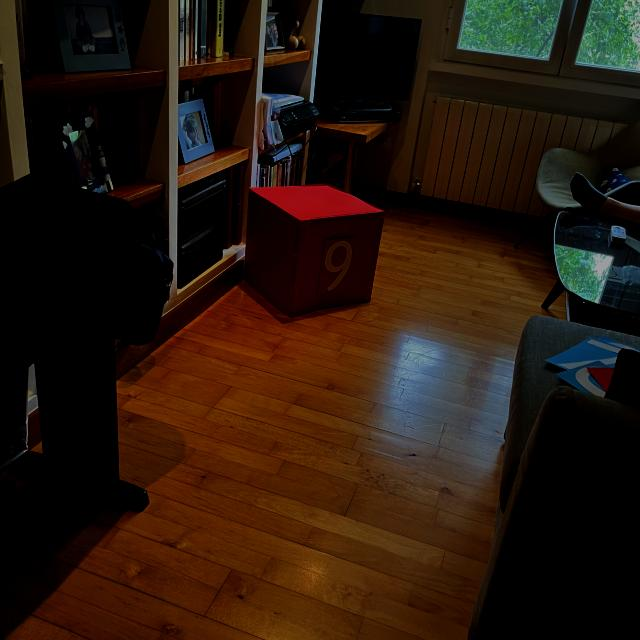box: (241, 180, 387, 320)
